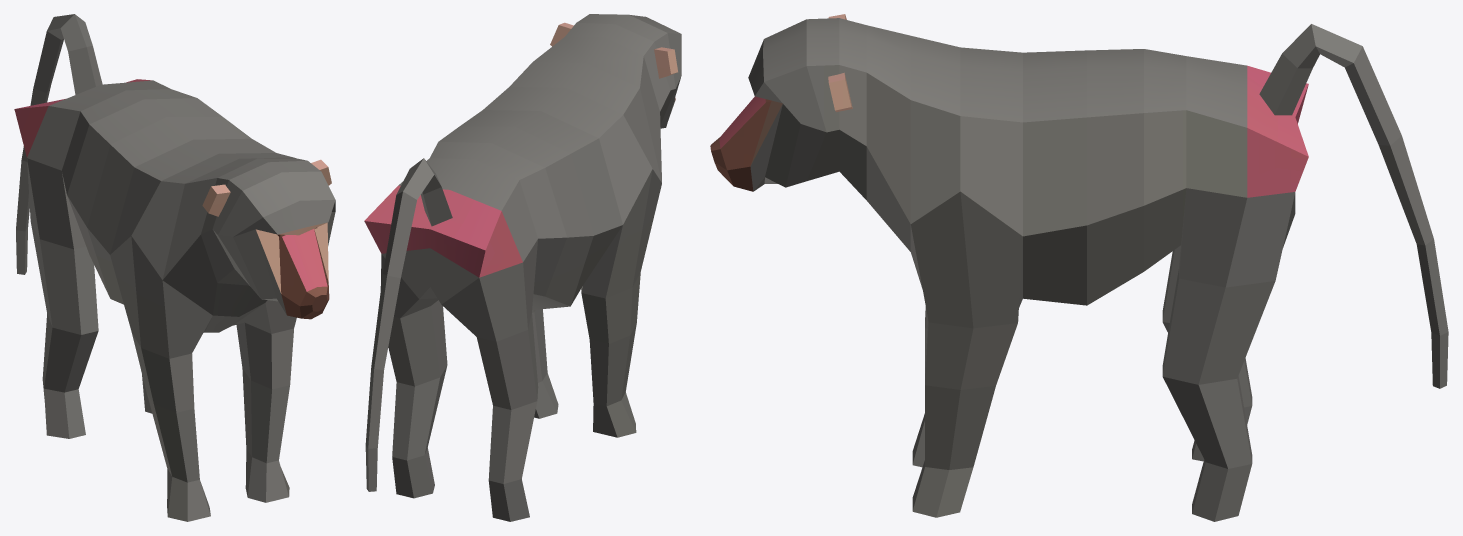
The model's file is prop_pz_baboon.glb.
The picture shows the model from 3 angles, left to right: view 1: azimuth 30°, elevation 25°; view 2: azimuth 150°, elevation 25°; view 3: azimuth 270°, elevation 25°; orthographic projection. The views are drawn at different scales.
Parts seen in each view (by area): view 1: Geo_Baboon; view 2: Geo_Baboon; view 3: Geo_Baboon.
Part boxes in pixels (x1=…): Geo_Baboon: x1=14, y1=14, x2=335, y2=521; Geo_Baboon: x1=364, y1=14, x2=681, y2=521; Geo_Baboon: x1=710, y1=14, x2=1448, y2=521.
Bounding box in the file's own units: 52.26 × 107 × 157.
1 material, 1 textured.
